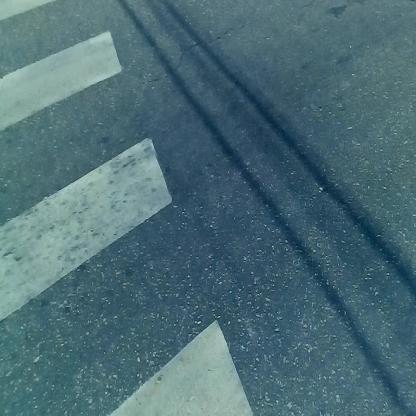crosswalk: (1, 1, 255, 405)
